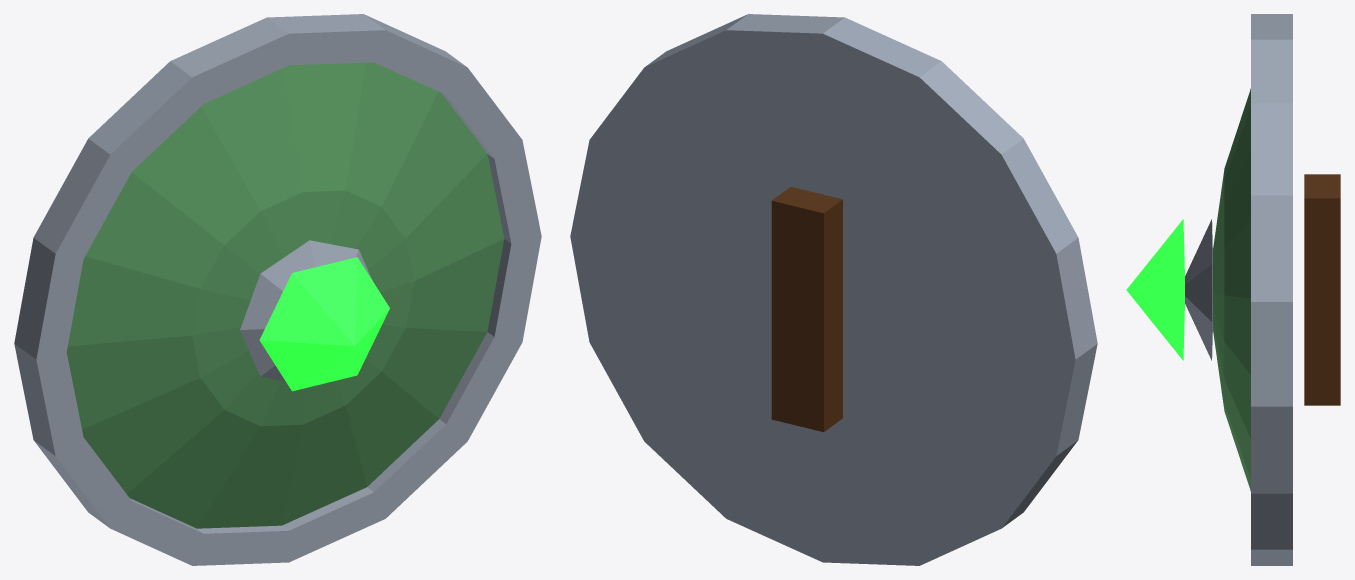
Rendered from shield_buckler_uncommon.glb.
3 views of the same model, side by side, from view 1: azimuth 30°, elevation 25°; view 2: azimuth 150°, elevation 25°; view 3: azimuth 270°, elevation 25° (orthographic). The views are drawn at different scales.
Parts seen in each view (by area): view 1: shield_buckler_uncommon; view 2: shield_buckler_uncommon; view 3: shield_buckler_uncommon.
Boxes of the visible parts, x1,y1,x2,y2 form: shield_buckler_uncommon: [14, 14, 541, 565]; shield_buckler_uncommon: [570, 14, 1097, 565]; shield_buckler_uncommon: [1126, 14, 1340, 565].
Bounding box in the file's own units: 58 × 58 × 22.5.
